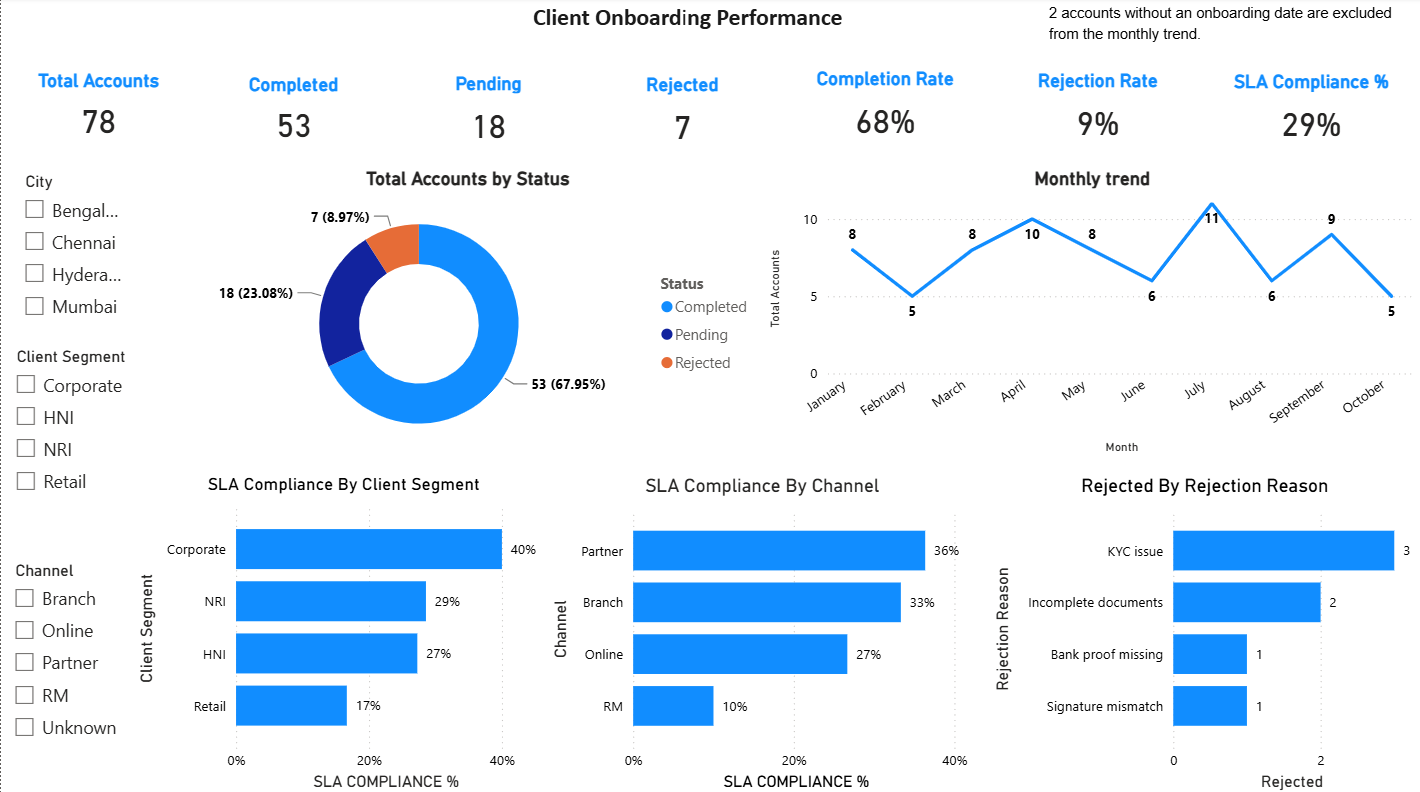

The dashboard page shown, as its layout file describes it:
{"tool":"powerbi","page":{"name":"Onboarding","canvas":[1280,720],"ordinal":0},"visuals":[{"type":"card","title":"Total Accounts ","fields":{"Values":["clean data.Measure"]},"box":[0,64.8,176.1,75.8],"z":0},{"type":"card","title":"Completed","fields":{"Values":["clean data.completed"]},"box":[176.1,68.5,176.1,72.1],"z":1000},{"type":"card","title":"Pending","fields":{"Values":["clean data.Pending"]},"box":[352.2,67.3,176.1,75.8],"z":2000},{"type":"card","title":"Rejected","fields":{"Values":["clean data.Rejected"]},"box":[519.7,68.5,189.5,75.8],"z":3000},{"type":"card","title":"Rejection Rate","fields":{"Values":["clean data.Rejection Rate"]},"box":[895.1,64.8,188.3,74.6],"z":4000},{"type":"card","title":"Completion Rate ","fields":{"Values":["clean data.Completion Rate"]},"box":[704.4,63.6,185.9,77],"z":5000},{"type":"donutChart","fields":{"Category":["clean data.Status"],"Y":["clean data.Total Accounts"]},"box":[154.1,152.9,533.2,264.1],"z":6000},{"type":"card","title":"SLA Compliance %","fields":{"Values":["clean data.SLA COMPLIANCE %"]},"box":[1083.4,66,196.9,74.6],"z":7000},{"type":"clusteredBarChart","title":"SLA Compliance By Client Segment","fields":{"Category":["clean data.Client Segment"],"Y":["clean data.SLA COMPLIANCE %"]},"box":[118.6,430.4,381.5,289.8],"z":7001},{"type":"clusteredBarChart","title":"SLA Compliance By Channel","fields":{"Category":["clean data.Channel"],"Y":["clean data.SLA COMPLIANCE %"]},"box":[491.6,430.4,390.1,289.8],"z":7002},{"type":"clusteredBarChart","title":"Rejected By Rejection Reason","fields":{"Category":["clean data.Rejection Reason"],"Y":["clean data.Rejected"]},"box":[890.2,430.4,390.1,289.8],"z":7003},{"type":"lineChart","title":"Monthly trend","fields":{"Category":["clean data.Onboarding Date.Variation.Date Hierarchy.Month"],"Y":["clean data.Total Accounts"]},"box":[687.2,152.9,593.1,264.1],"z":7004},{"type":"slicer","fields":{"Values":["clean data.City"]},"box":[8.6,152.9,110.1,157.7],"z":7005},{"type":"slicer","fields":{"Values":["clean data.Client Segment"]},"box":[1.2,310.6,163.9,157.7],"z":7006},{"type":"slicer","fields":{"Values":["clean data.Channel"]},"box":[0,503.8,118.6,177.3],"z":7007},{"type":"textbox","box":[469.6,0,298.4,51.4],"z":7008},{"type":"textbox","box":[940.4,0,339.9,52.6],"z":7009}]}

Visuals, with their boxes in screenshot pixels (x1, y1, x2, y2), scaled from the page's 1280x720 canvas onto the 1420x792 screenshot:
"Total Accounts " card: pyautogui.locateOnScreen(0, 71, 195, 155)
"Completed" card: pyautogui.locateOnScreen(195, 75, 391, 155)
"Pending" card: pyautogui.locateOnScreen(391, 74, 586, 157)
"Rejected" card: pyautogui.locateOnScreen(577, 75, 787, 159)
"Rejection Rate" card: pyautogui.locateOnScreen(993, 71, 1202, 153)
"Completion Rate " card: pyautogui.locateOnScreen(781, 70, 988, 155)
donutChart - clean data.Status x clean data.Total Accounts: pyautogui.locateOnScreen(171, 168, 762, 459)
"SLA Compliance %" card: pyautogui.locateOnScreen(1202, 73, 1419, 155)
"SLA Compliance By Client Segment" clusteredBarChart: pyautogui.locateOnScreen(132, 473, 555, 791)
"SLA Compliance By Channel" clusteredBarChart: pyautogui.locateOnScreen(545, 473, 978, 791)
"Rejected By Rejection Reason" clusteredBarChart: pyautogui.locateOnScreen(988, 473, 1419, 791)
"Monthly trend" lineChart: pyautogui.locateOnScreen(762, 168, 1419, 459)
slicer - clean data.City: pyautogui.locateOnScreen(10, 168, 132, 342)
slicer - clean data.Client Segment: pyautogui.locateOnScreen(1, 342, 183, 515)
slicer - clean data.Channel: pyautogui.locateOnScreen(0, 554, 132, 749)
textbox: pyautogui.locateOnScreen(521, 0, 852, 57)
textbox: pyautogui.locateOnScreen(1043, 0, 1419, 58)
